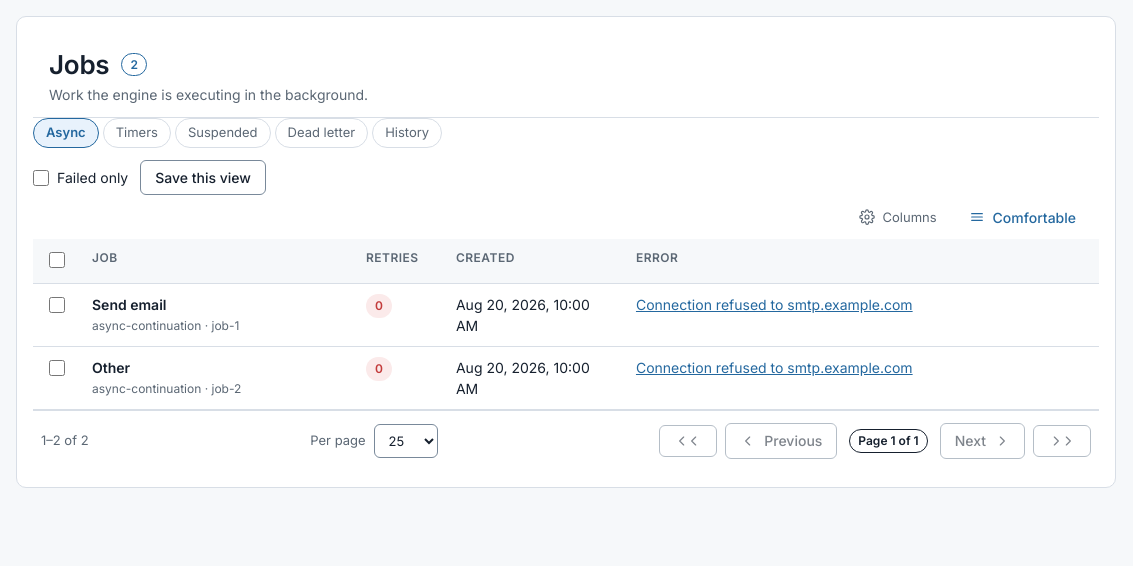
Test: Jobs › selects every job on the page at once
The image size is (1133, 566).
Expected: the text "Send email" is shown, [92, 296, 166, 313]
Click the checkbox named "select all jobs on this page" at (57, 260), box [49, 252, 65, 268]
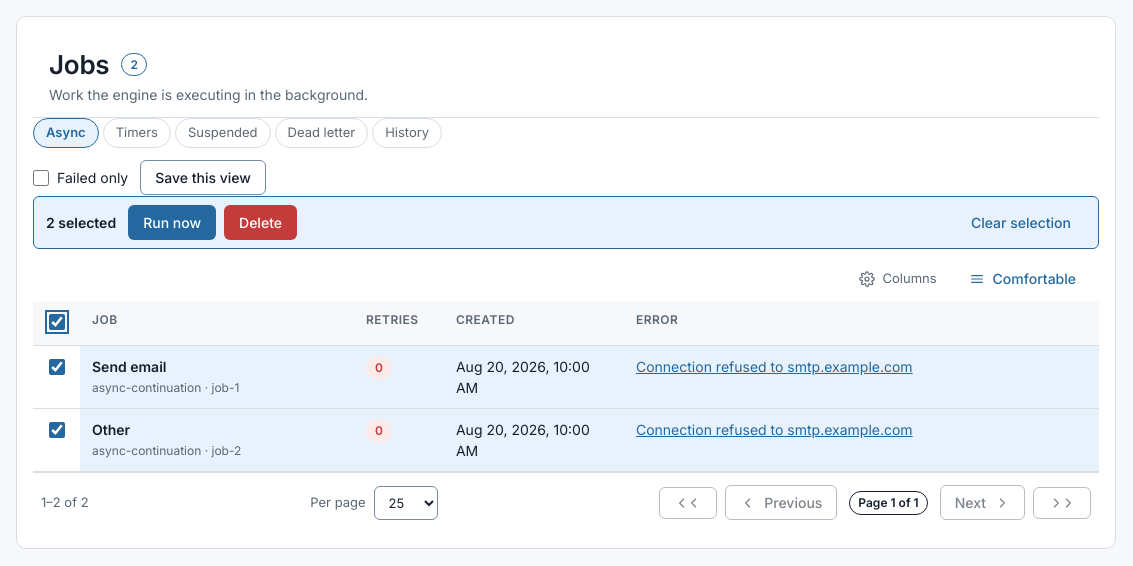
Expected: the text "2 selected" is shown, [46, 212, 116, 233]
